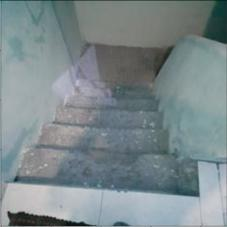Stair Down: (15, 78, 197, 196)
